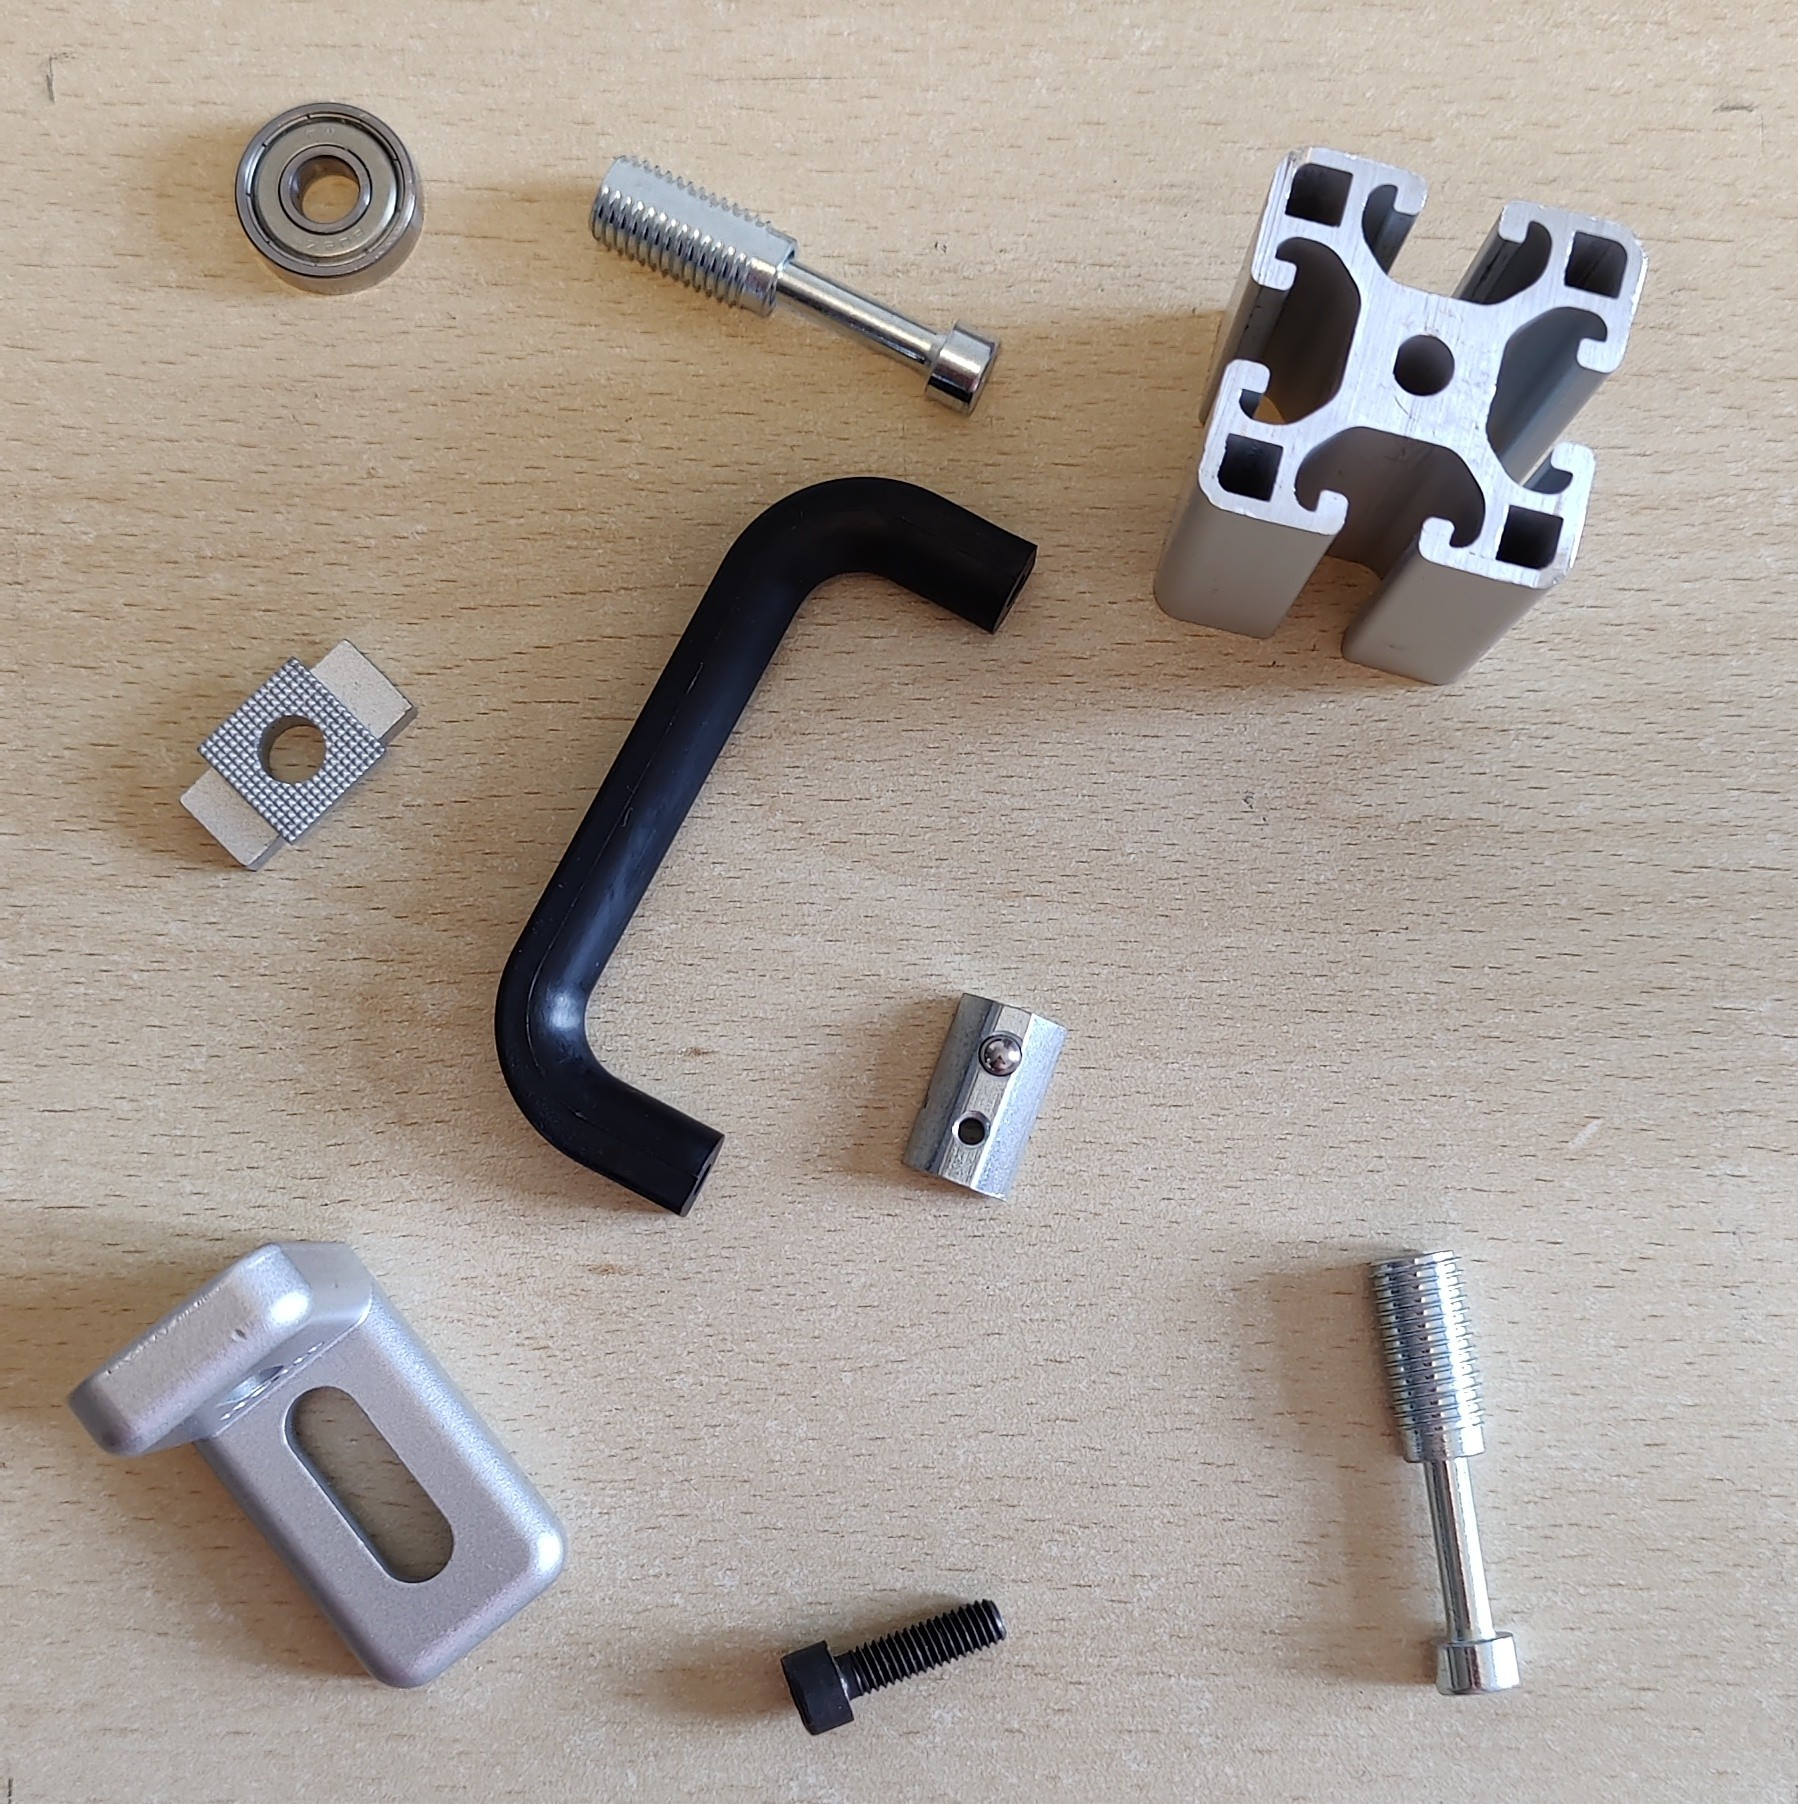Aluminium Extension: (1151, 143, 1648, 690)
Ball Bearing: (232, 100, 426, 300)
Multiwinkel: (61, 1238, 570, 1690)
Pull Handle: (491, 474, 1041, 1221)
Shoulder Socket Head Cap Screw: (585, 150, 1004, 420), (1362, 1244, 1525, 1700)
Socket Head Cap Screw: (779, 1593, 1009, 1737)
T Nut Square: (178, 634, 422, 877)
T Spring Nut: (896, 986, 1072, 1203)
